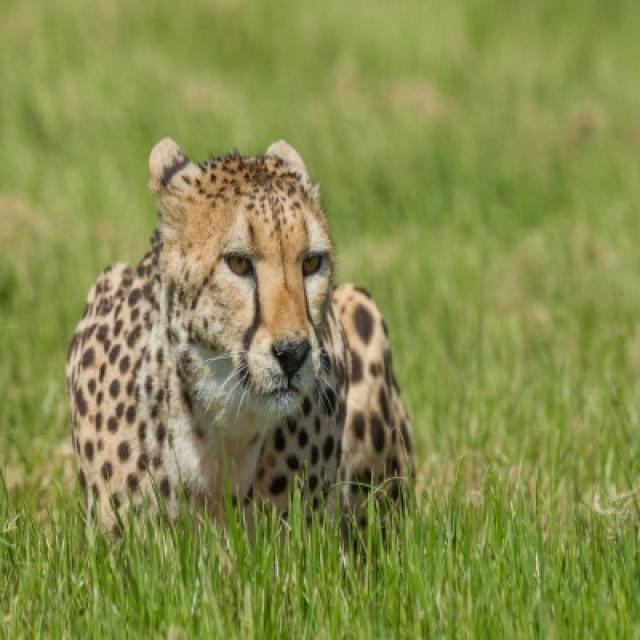Cheetah: (64, 138, 414, 544)
